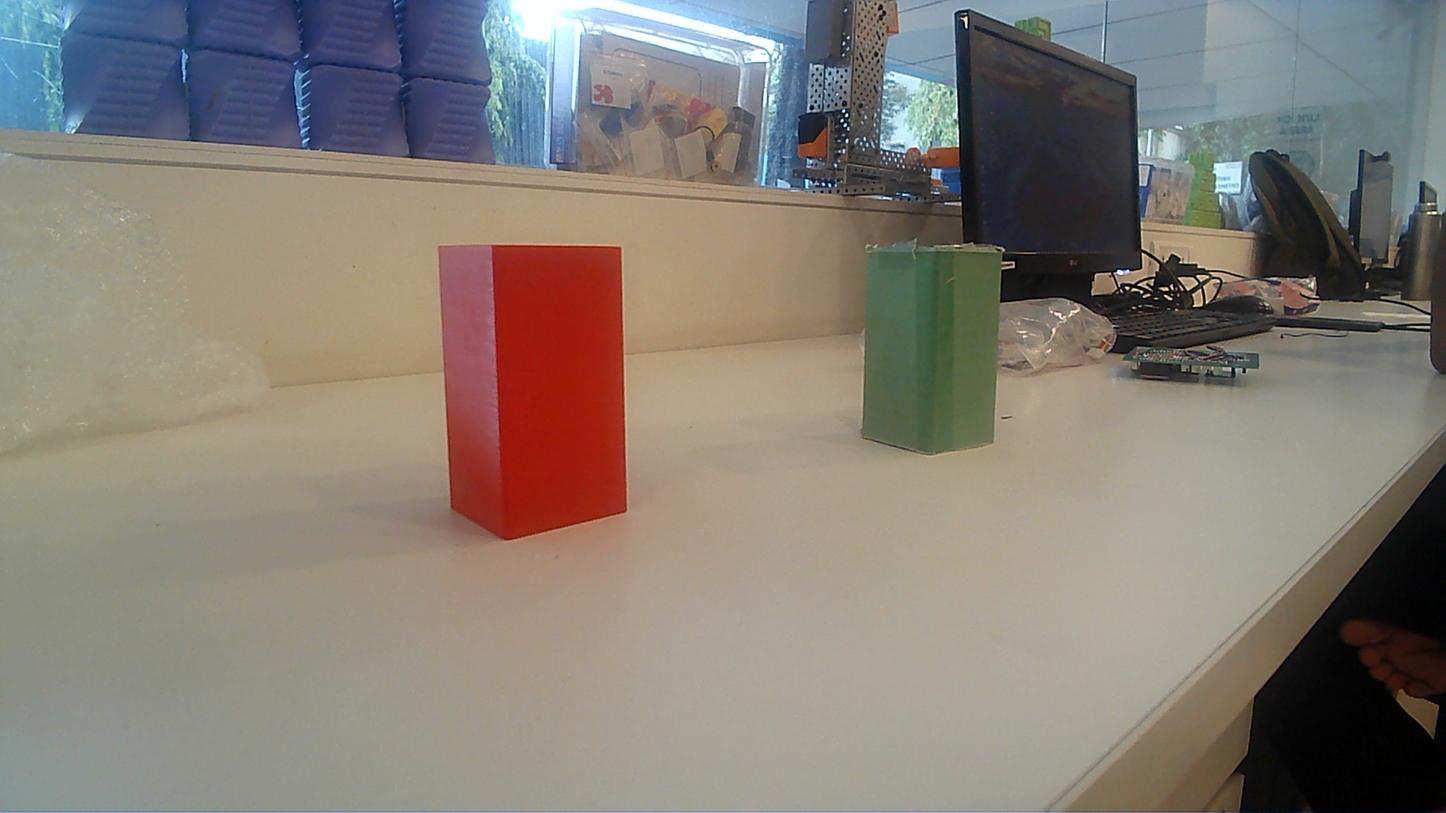green: (857, 234, 1009, 458)
